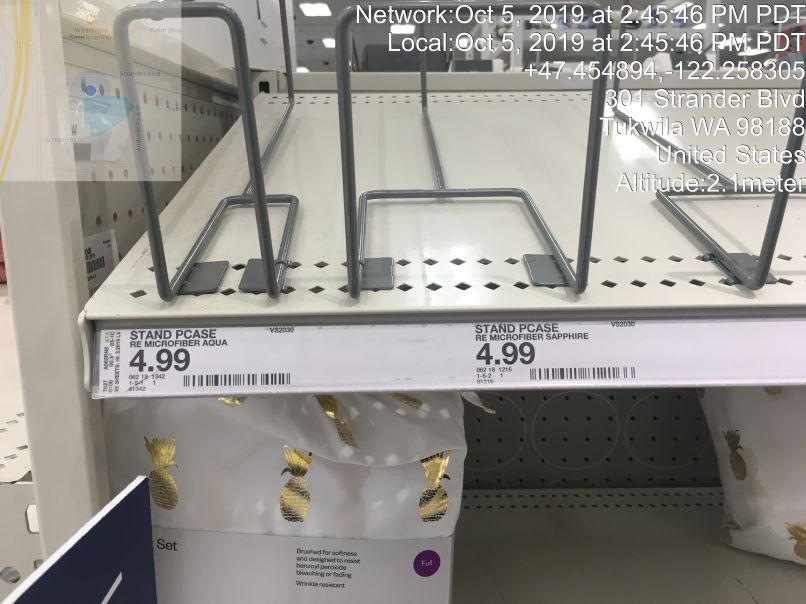Label: (99, 324, 303, 395), (465, 321, 652, 391)
Location: (595, 84, 806, 176)
Stand Pcase: (330, 3, 616, 298), (113, 7, 303, 300), (618, 11, 800, 294)
Time: (349, 1, 806, 56)
